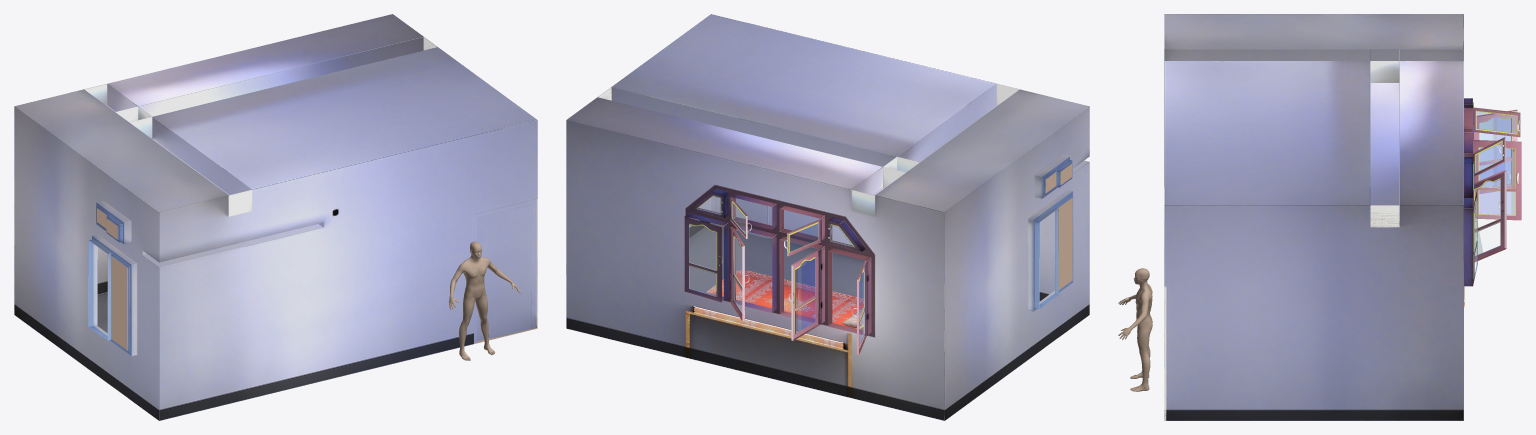
Rendered from dorms.glb.
3 renders of one model, left to right at view 1: azimuth 30°, elevation 25°; view 2: azimuth 150°, elevation 25°; view 3: azimuth 270°, elevation 25°, orthographic. The views are drawn at different scales.
Parts seen in each view (by area): view 1: Cube_0, base_humanMesh_base_human_0_15; view 2: Cube_0, Cube.006_2, vizmci3va_LOD0_TIER3_000_MatID_1_0_8; view 3: Cube_0, Cube.006_2, base_humanMesh_base_human_0_15.
Part boxes in pixels (x1=…): Cube_0: x1=14, y1=14, x2=537, y2=420; base_humanMesh_base_human_0_15: x1=449, y1=241, x2=520, y2=360; Cube_0: x1=566, y1=14, x2=1089, y2=420; Cube.006_2: x1=684, y1=192, x2=866, y2=354; vizmci3va_LOD0_TIER3_000_MatID_1_0_8: x1=686, y1=270, x2=863, y2=348; Cube_0: x1=1164, y1=14, x2=1472, y2=420; Cube.006_2: x1=1473, y1=102, x2=1521, y2=285; base_humanMesh_base_human_0_15: x1=1118, y1=268, x2=1152, y2=391.
Size of the model in its own units: 6.23 by 3.18 by 5.39.
19 materials, 14 textured.
